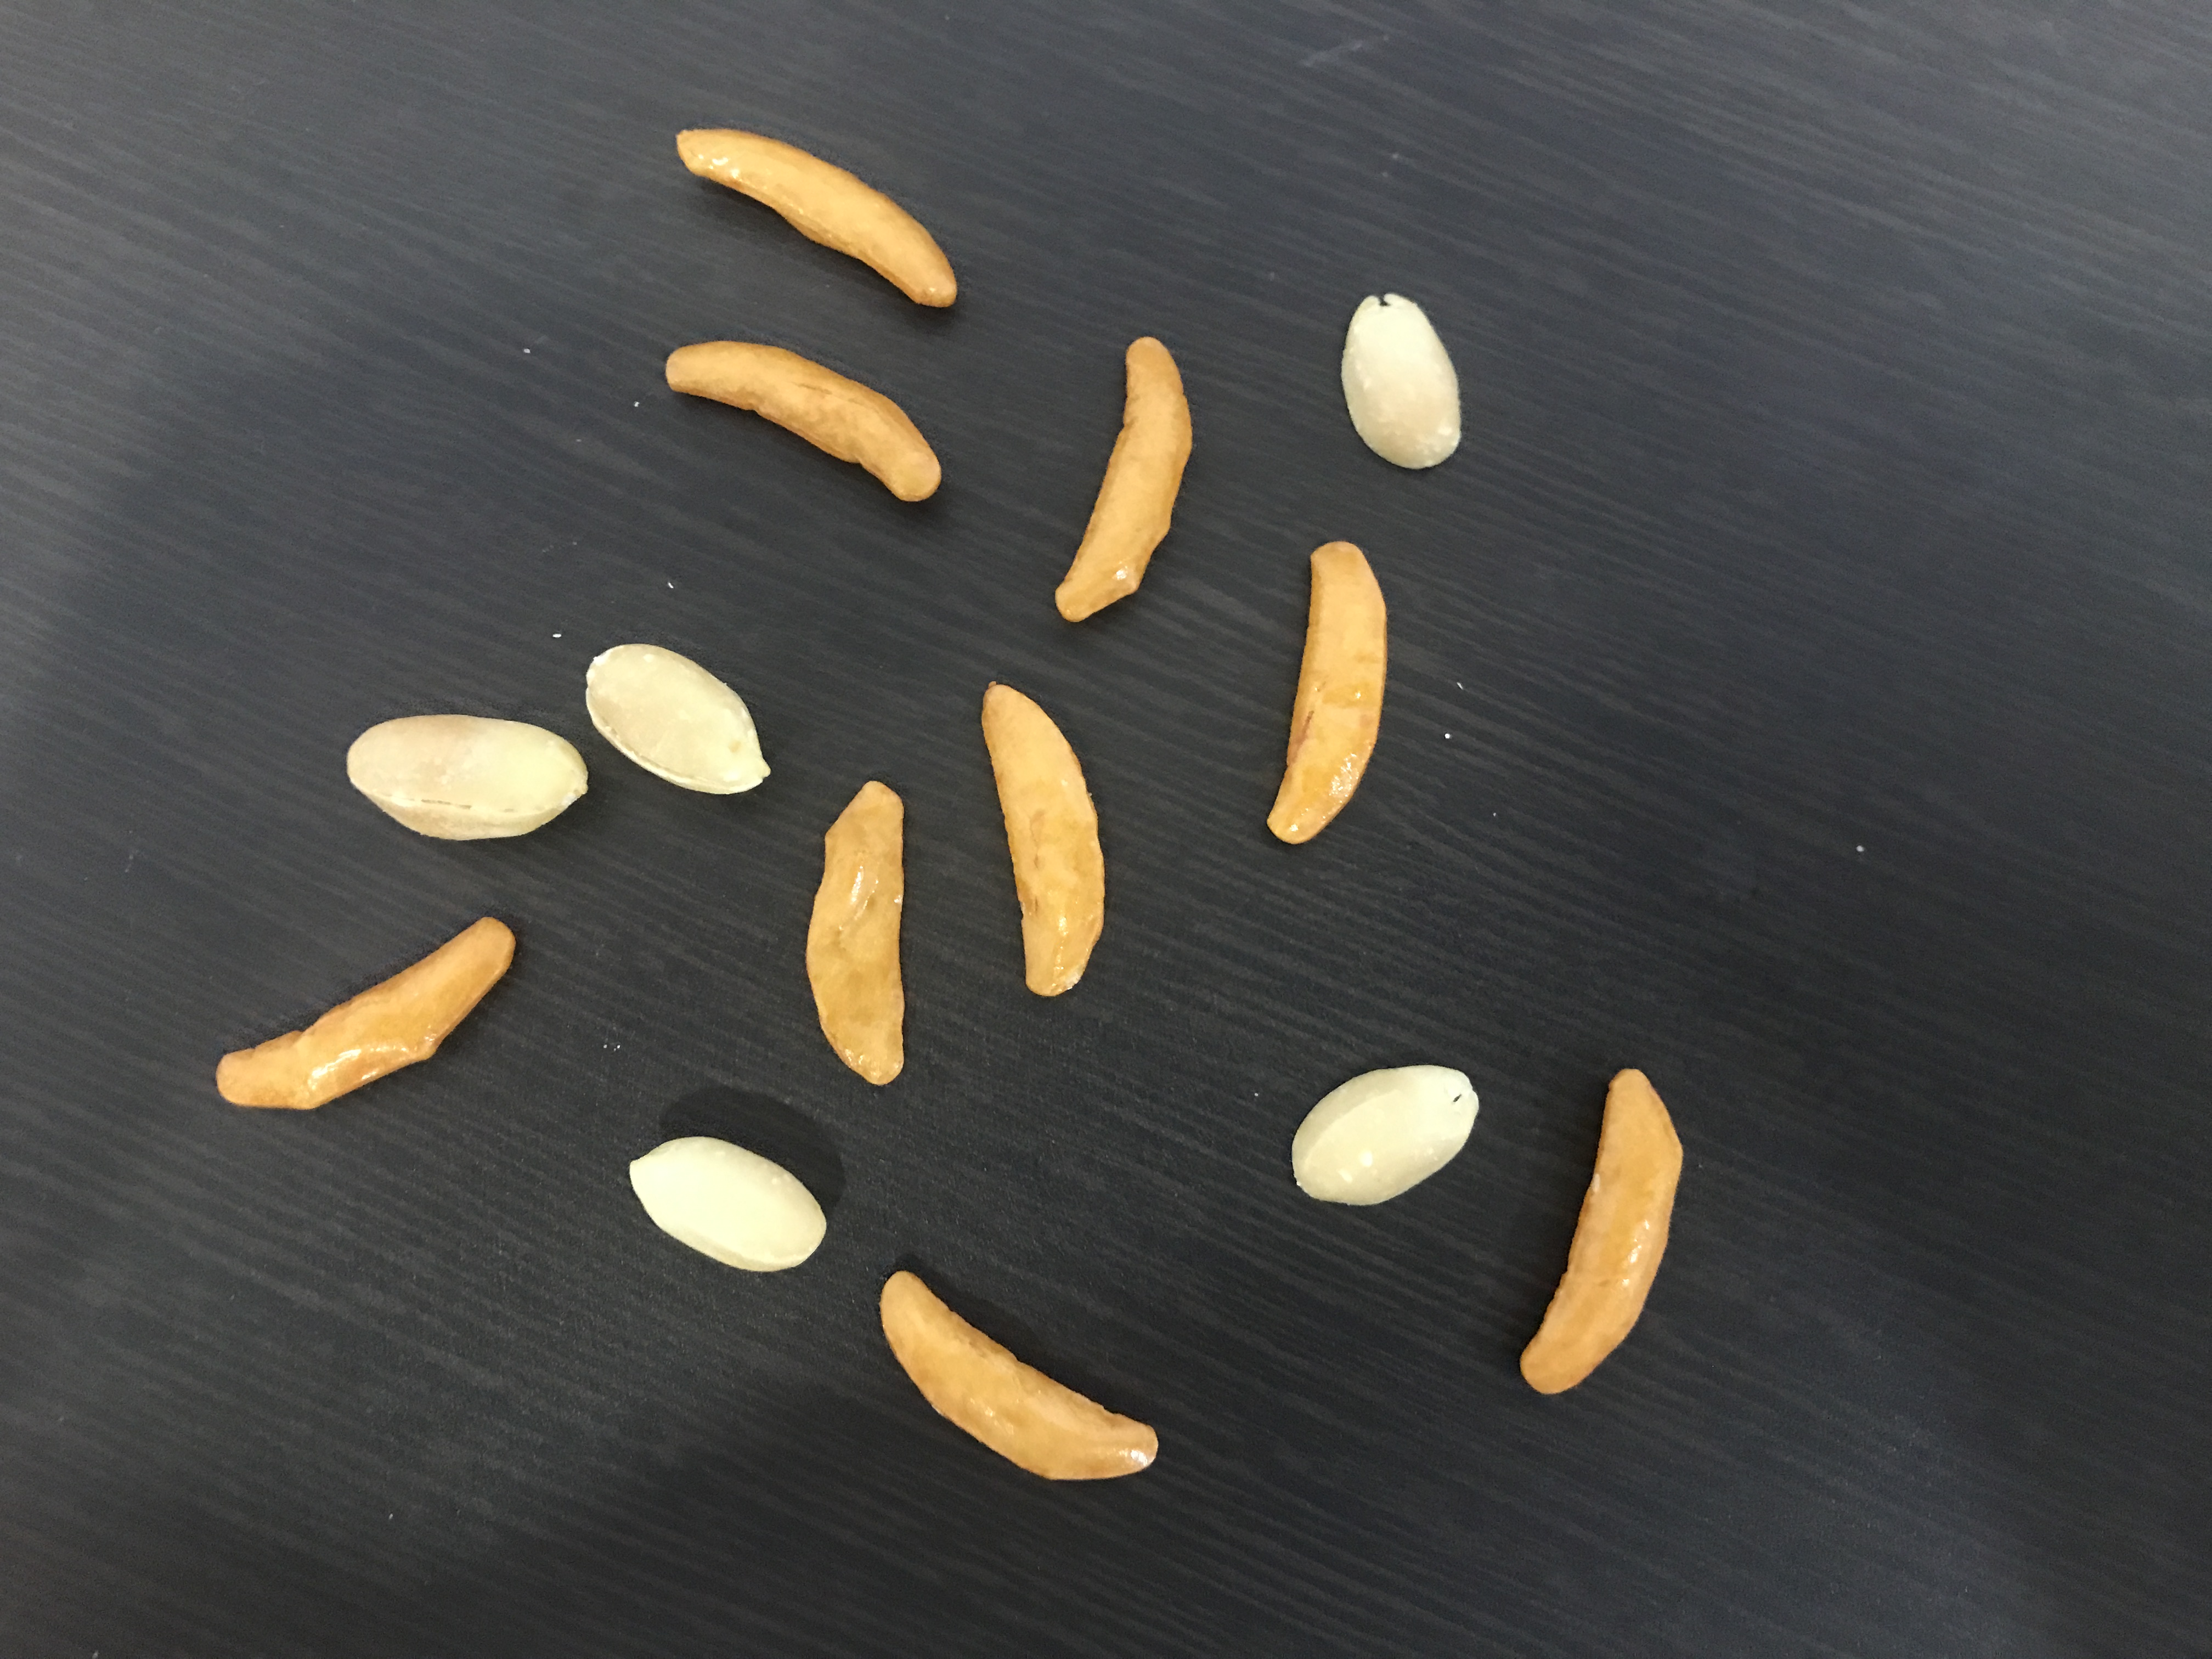peanut: (341, 711, 592, 854), (580, 633, 773, 802), (1280, 1060, 1487, 1211), (622, 1131, 833, 1277), (1331, 279, 1467, 469)
